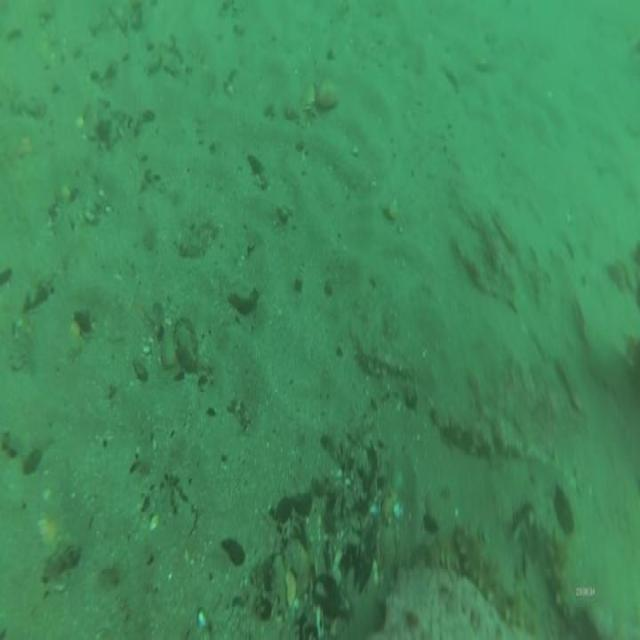holothurian: (452, 517, 524, 621), (549, 526, 577, 620)
